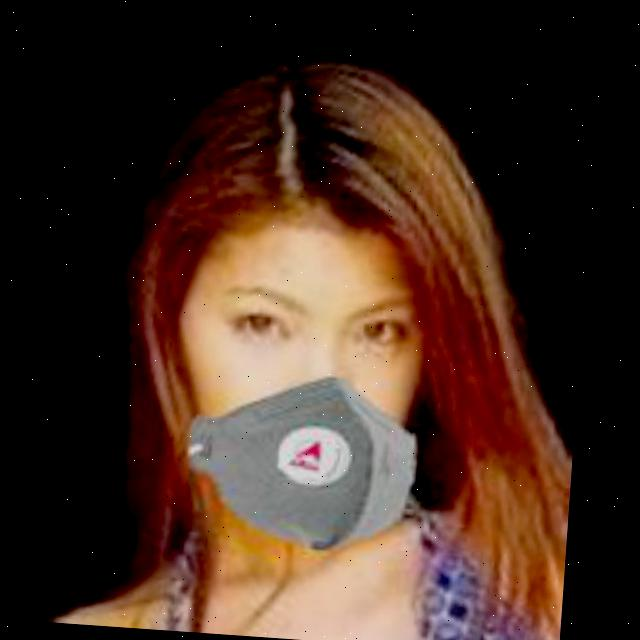suspicion: (131, 38, 513, 548)
